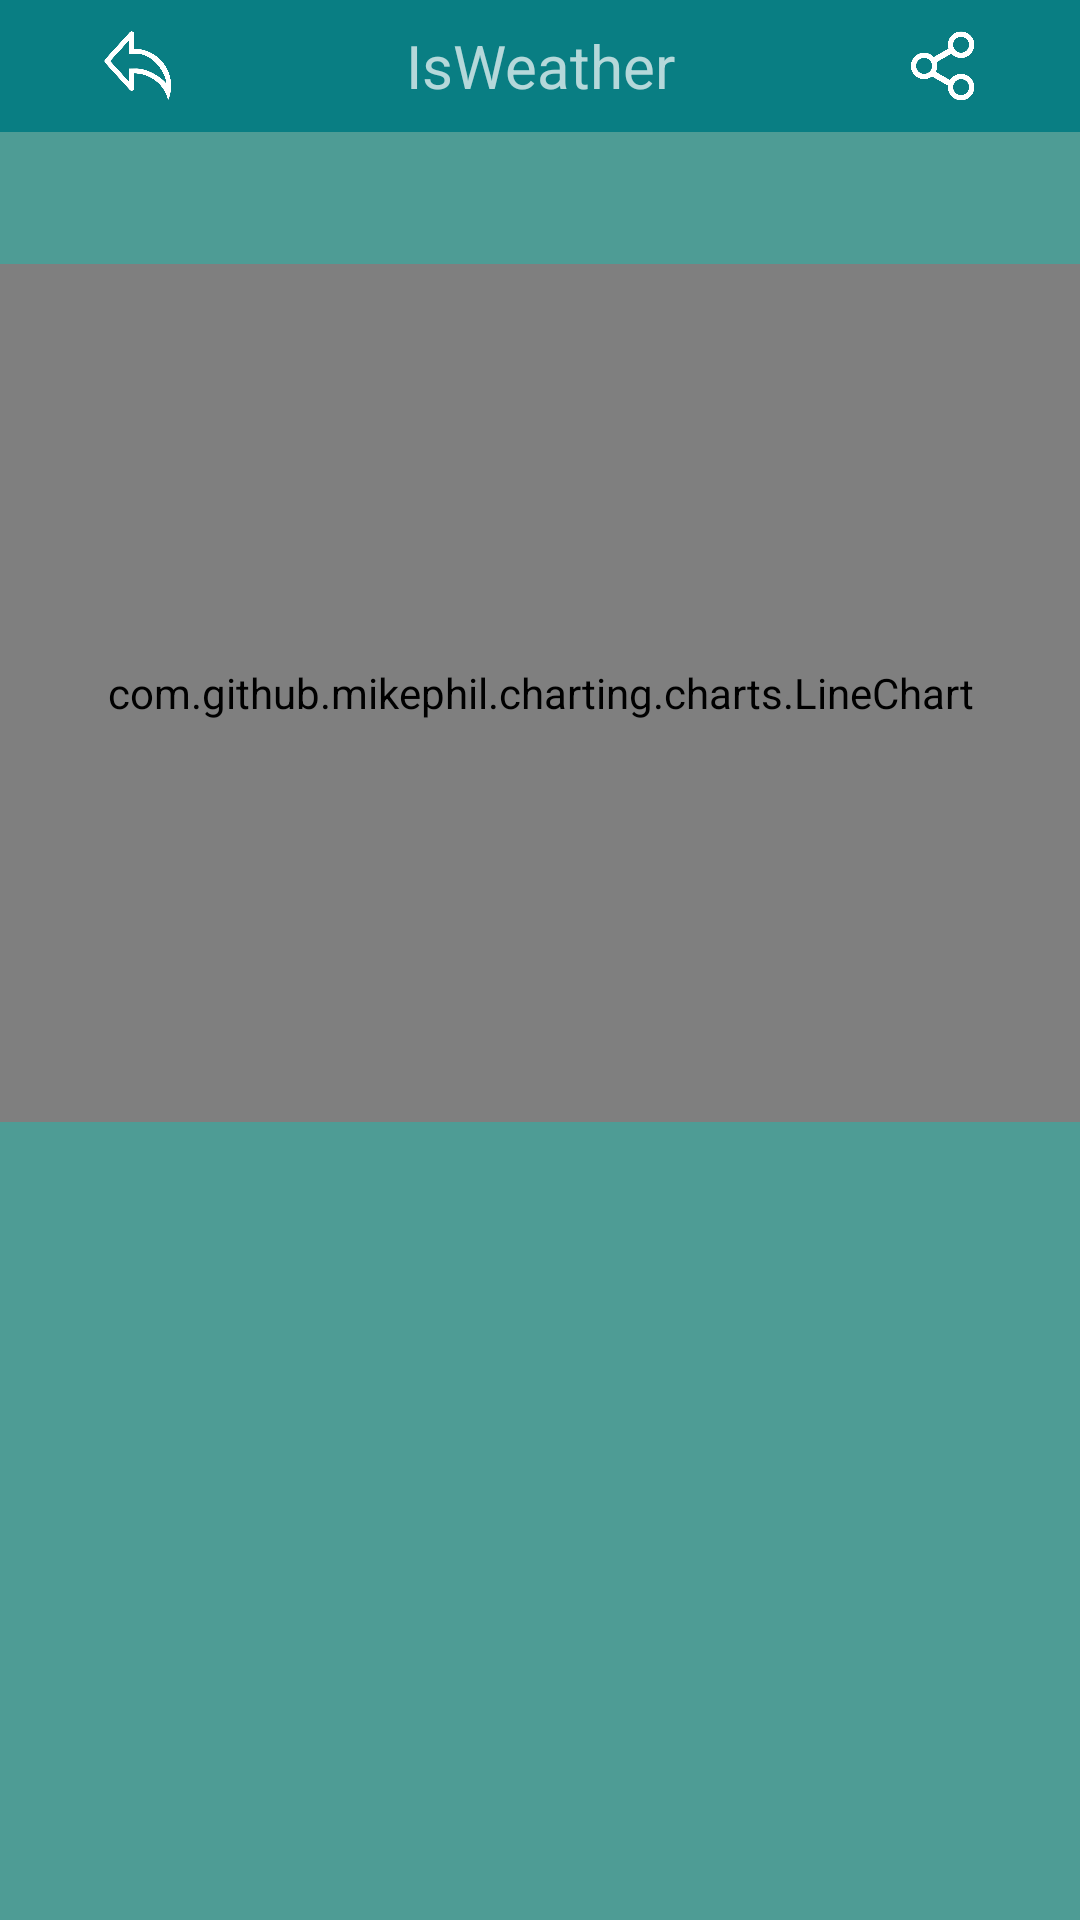

Where icons sit on this 1080*1920 app screen, as (x1, y1, x2, y2):
back: (104, 31, 171, 100)
share: (911, 31, 974, 100)
